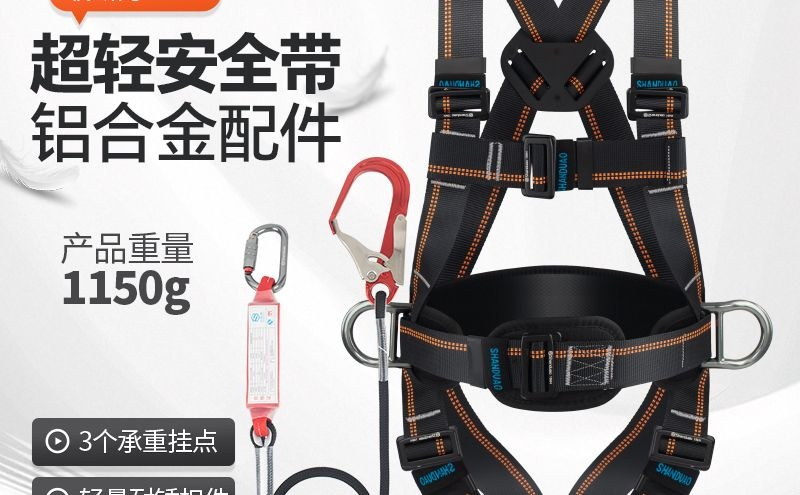safety belt: (407, 6, 742, 480)
